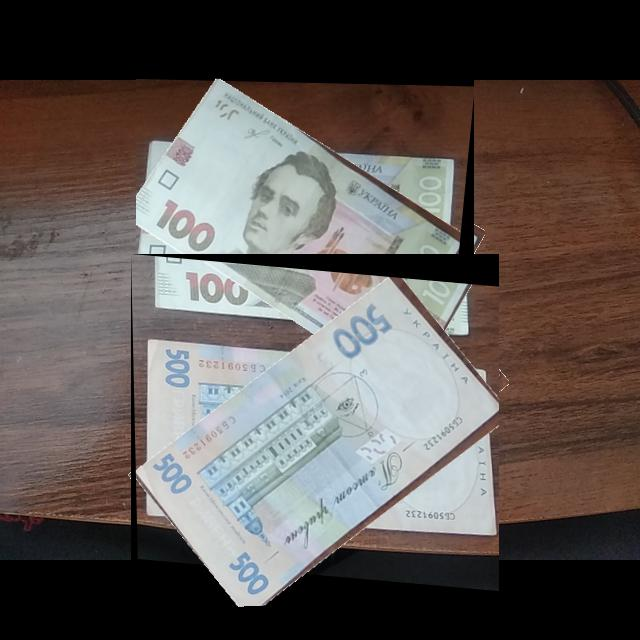100uah: (136, 79, 463, 371)
500uah: (135, 273, 500, 607)
